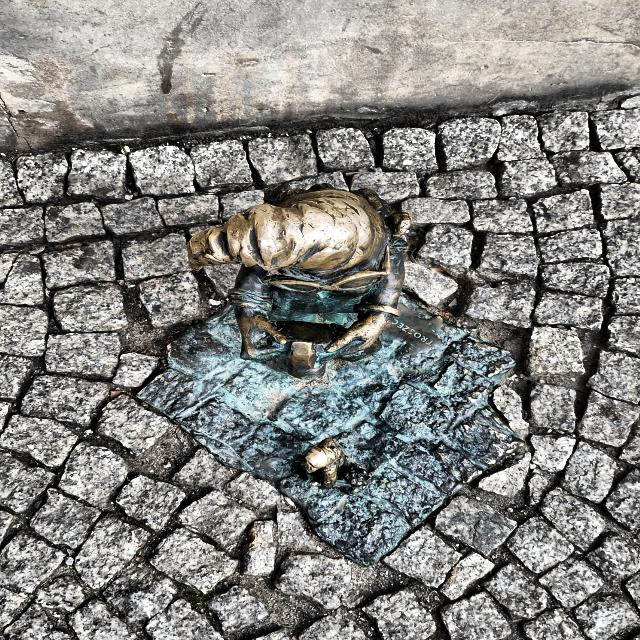Troszka i Adoratorek: (136, 188, 529, 568)
